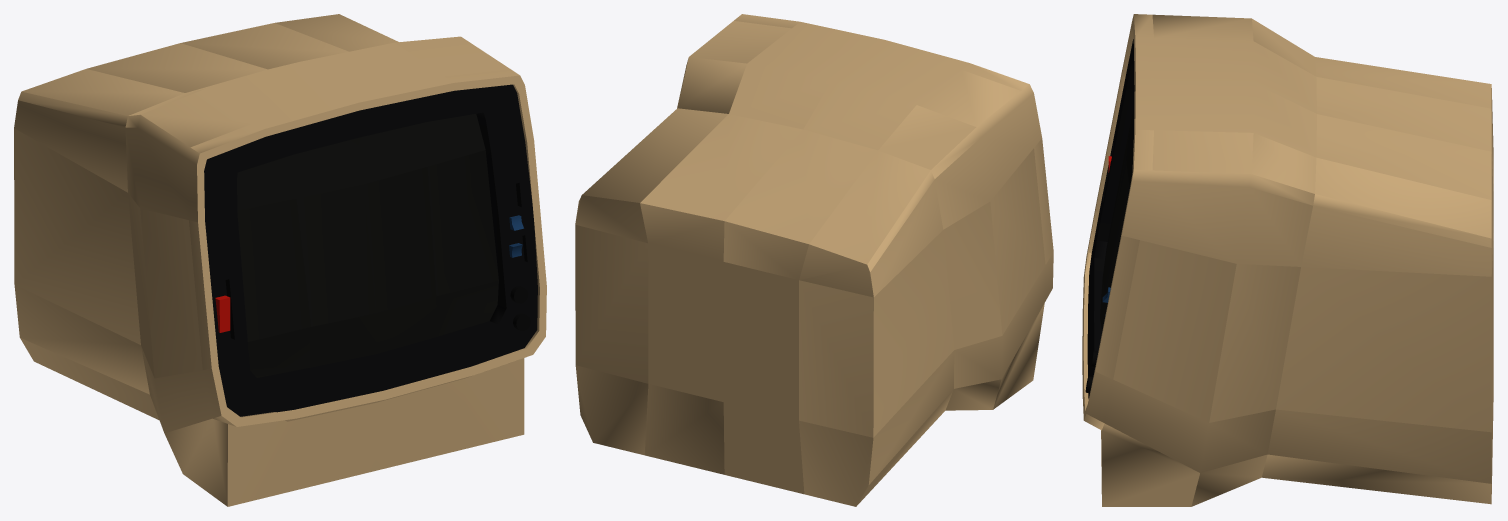
The model's file is Old computer.FBX.
The picture shows the model from 3 angles, left to right: view 1: azimuth 30°, elevation 25°; view 2: azimuth 150°, elevation 25°; view 3: azimuth 270°, elevation 25°; orthographic projection. The views are drawn at different scales.
Visible parts, largest first — view 1: monitor; view 2: monitor; view 3: monitor.
Part boxes in pixels (box(x1,y1,x2,y2)): monitor: box(14, 14, 546, 506); monitor: box(575, 14, 1053, 506); monitor: box(1082, 14, 1493, 506).
Bounding box in the file's own units: 15.12 × 15.29 × 16.1.
